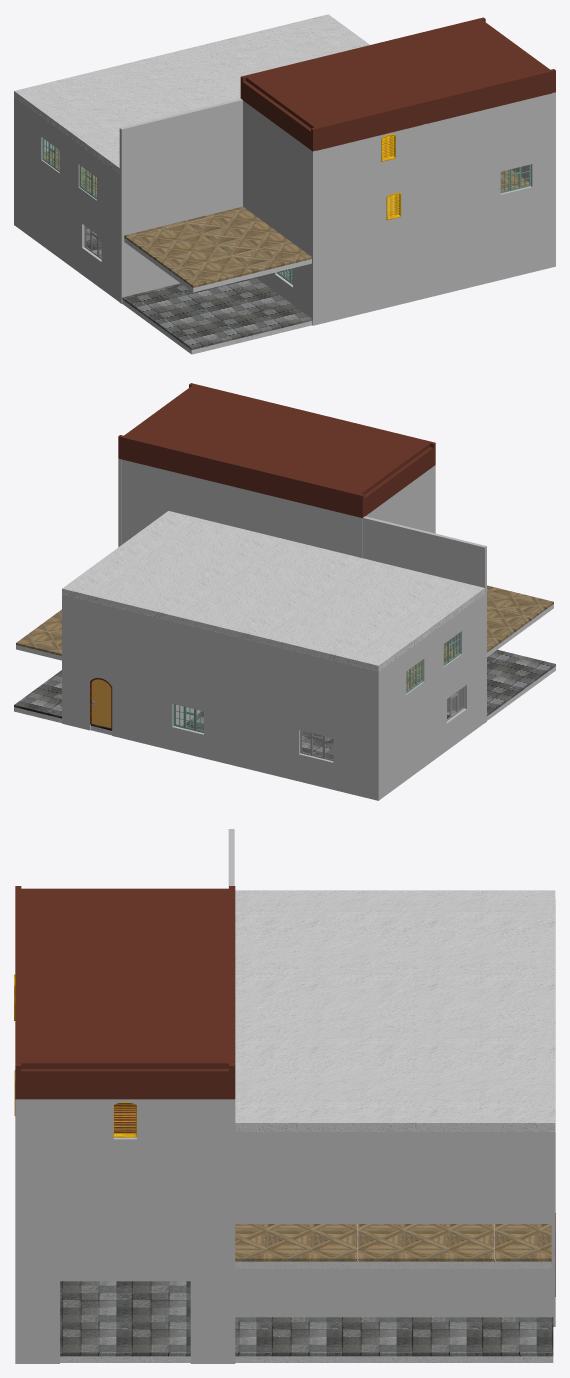
Rendered from cASA.fbx.
3 renders of one model, top to bottom at view 1: azimuth 30°, elevation 25°; view 2: azimuth 150°, elevation 25°; view 3: azimuth 270°, elevation 25°, orthographic. The views are drawn at different scales.
Parts seen in each view (by area): view 1: Parede.007, Telhado, Teto, Parede.002, Parede.005, Piso_Casa.003, Parede.009, Piso_Casa.001, Parede.006, Parede.008, Janela_verde.003; view 2: Parede, Teto, Telhado, Parede.002, Parede.005, Piso_Casa.001, Piso_Casa.003, Parede.009, Porta; view 3: Teto, Parede.006, Telhado, Parede.001, Piso_Casa.001, Piso_Casa.003, Parede, Janela_Madeira.001.
Boxes of the visible parts, bbox=[...] form: Parede.007: bbox=[316, 93, 552, 324]; Telhado: bbox=[240, 17, 555, 151]; Teto: bbox=[14, 14, 369, 173]; Parede.002: bbox=[119, 98, 242, 303]; Parede.005: bbox=[16, 98, 119, 301]; Piso_Casa.003: bbox=[45, 148, 528, 292]; Parede.009: bbox=[243, 100, 316, 325]; Piso_Casa.001: bbox=[86, 227, 312, 354]; Parede.006: bbox=[511, 92, 555, 267]; Parede.008: bbox=[390, 123, 426, 298]; Janela_verde.003: bbox=[500, 164, 530, 193]; Parede: bbox=[62, 594, 380, 800]; Teto: bbox=[62, 511, 484, 671]; Telhado: bbox=[118, 383, 435, 518]; Parede.002: bbox=[122, 459, 486, 722]; Parede.005: bbox=[380, 594, 484, 798]; Piso_Casa.001: bbox=[14, 649, 555, 759]; Piso_Casa.003: bbox=[16, 585, 553, 690]; Parede.009: bbox=[359, 465, 435, 558]; Porta: bbox=[92, 679, 111, 727]; Teto: bbox=[235, 890, 555, 1131]; Parede.006: bbox=[15, 1099, 235, 1363]; Telhado: bbox=[15, 886, 235, 1099]; Parede.001: bbox=[235, 1132, 549, 1317]; Piso_Casa.001: bbox=[60, 1281, 553, 1362]; Piso_Casa.003: bbox=[235, 1224, 551, 1268]; Parede: bbox=[549, 899, 555, 1326]; Janela_Madeira.001: bbox=[113, 1102, 136, 1137].
Size of the model in its own units: 2078 by 1071 by 1764.
